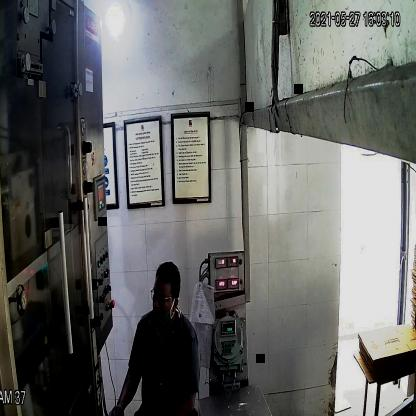goggles: (148, 284, 178, 307)
